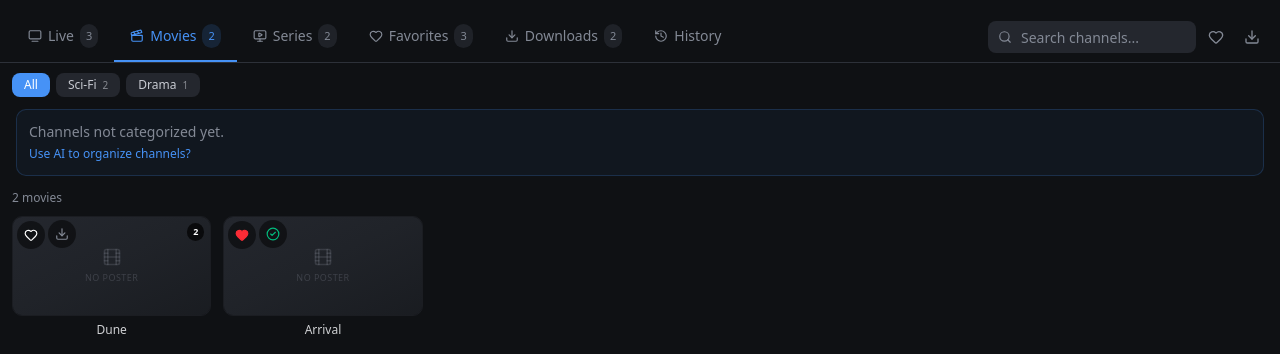
Test case: ChannelList filters › shows only downloaded movies and shows while the download filter is on
Click the button named "Show downloaded only".
click(1252, 37)  # box [1236,21,1268,53]
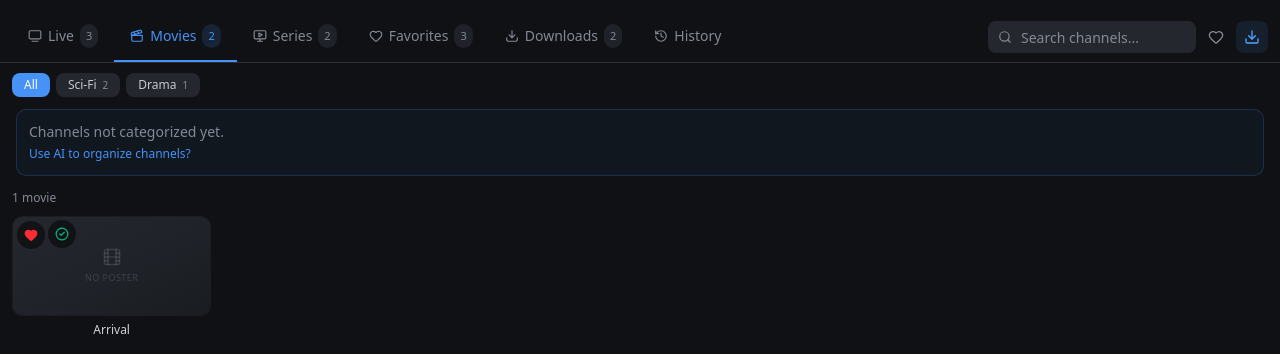
Expected: the text "Arrival" is shown, [93,321,130,338]
Now the text "1 movie" is shown, box [12,189,56,206]
Click the button "Series 2".
click(295, 37)  # box [237,12,353,62]
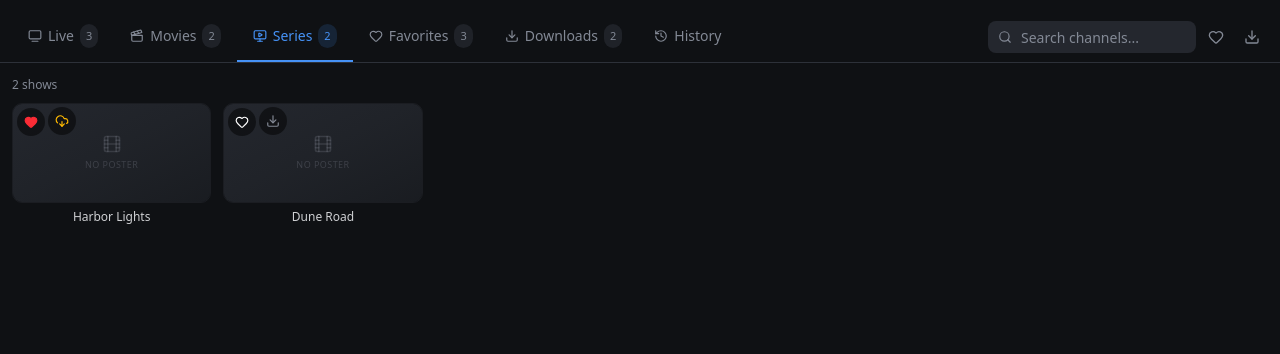
Click the button named "Show downloaded only".
click(1252, 37)  # box [1236,21,1268,53]
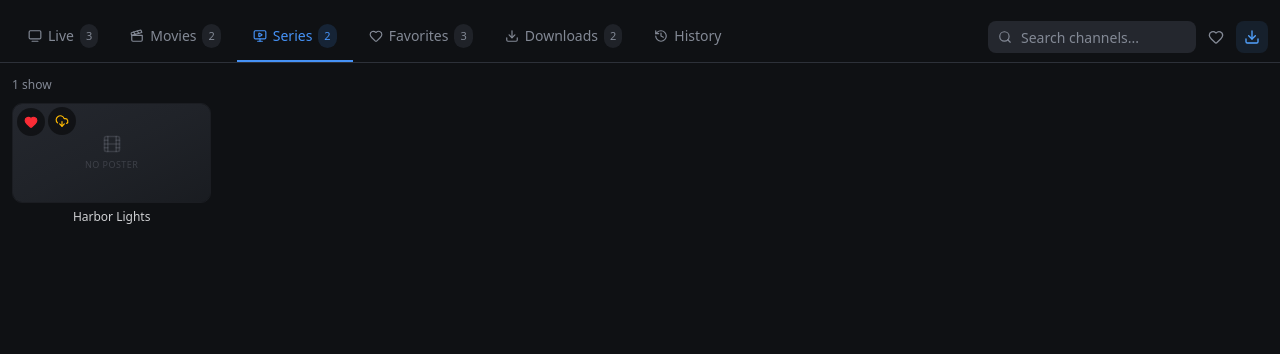
Now the text "Harbor Lights" is shown, box [73,208,150,225]
Now the text "1 show" is shown, box [12,76,52,93]
Now the button "Dune Road" is gone
